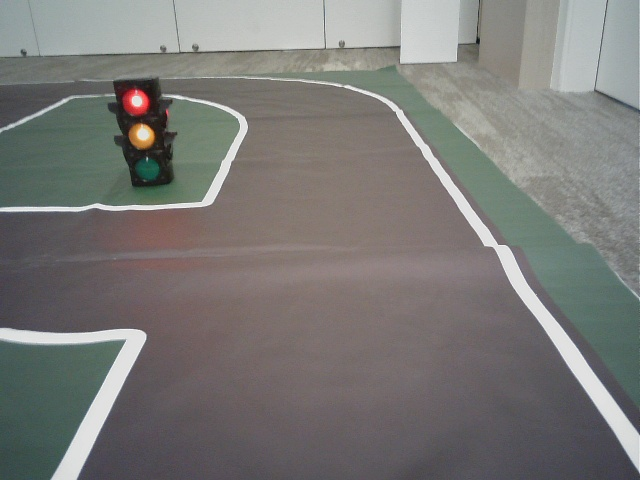red: (118, 81, 169, 184)
